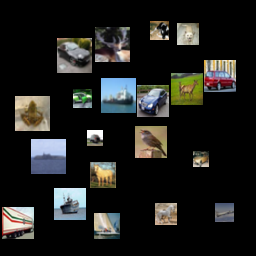airplane: (215, 203, 234, 222)
automobile: (57, 38, 92, 73), (204, 60, 236, 92), (137, 85, 169, 117), (73, 89, 92, 108), (193, 151, 209, 167)
bird: (135, 126, 167, 158)
deer: (95, 27, 130, 62), (171, 73, 203, 105)
dog: (177, 23, 199, 45), (150, 21, 169, 40)
frog: (15, 96, 50, 131)
ship: (31, 139, 66, 174), (101, 78, 136, 113), (54, 188, 86, 220), (94, 213, 120, 239)
